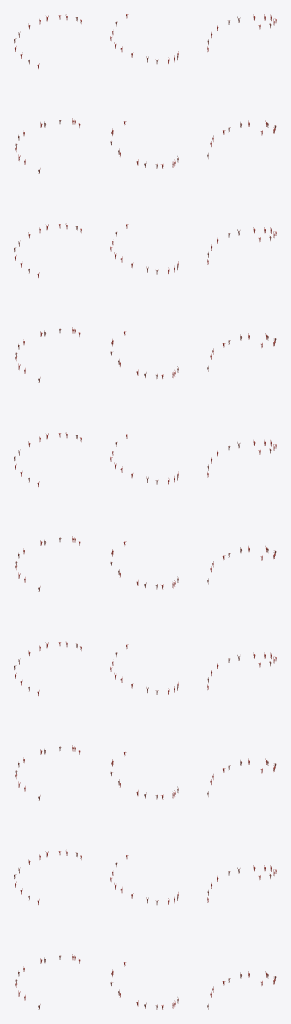
File: Circle7Crowd0.obj
3 views of the same model, side by side, from view 1: azimuth 30°, elevation 25°; view 2: azimuth 150°, elevation 25°; view 3: azimuth 330°, elevation 25° (orthographic).
Parts seen in each view (by area): view 1: Circle7Crowd0; view 2: Circle7Crowd0; view 3: Circle7Crowd0.
Part boxes in pixels (x1,y1,x2,y2): Circle7Crowd0: (14,14,81,1009); Circle7Crowd0: (110,14,178,1009); Circle7Crowd0: (207,14,276,1009).
Bounding box in the file's own units: 26.61 × 420 × 22.34.
1 material, 1 textured.
